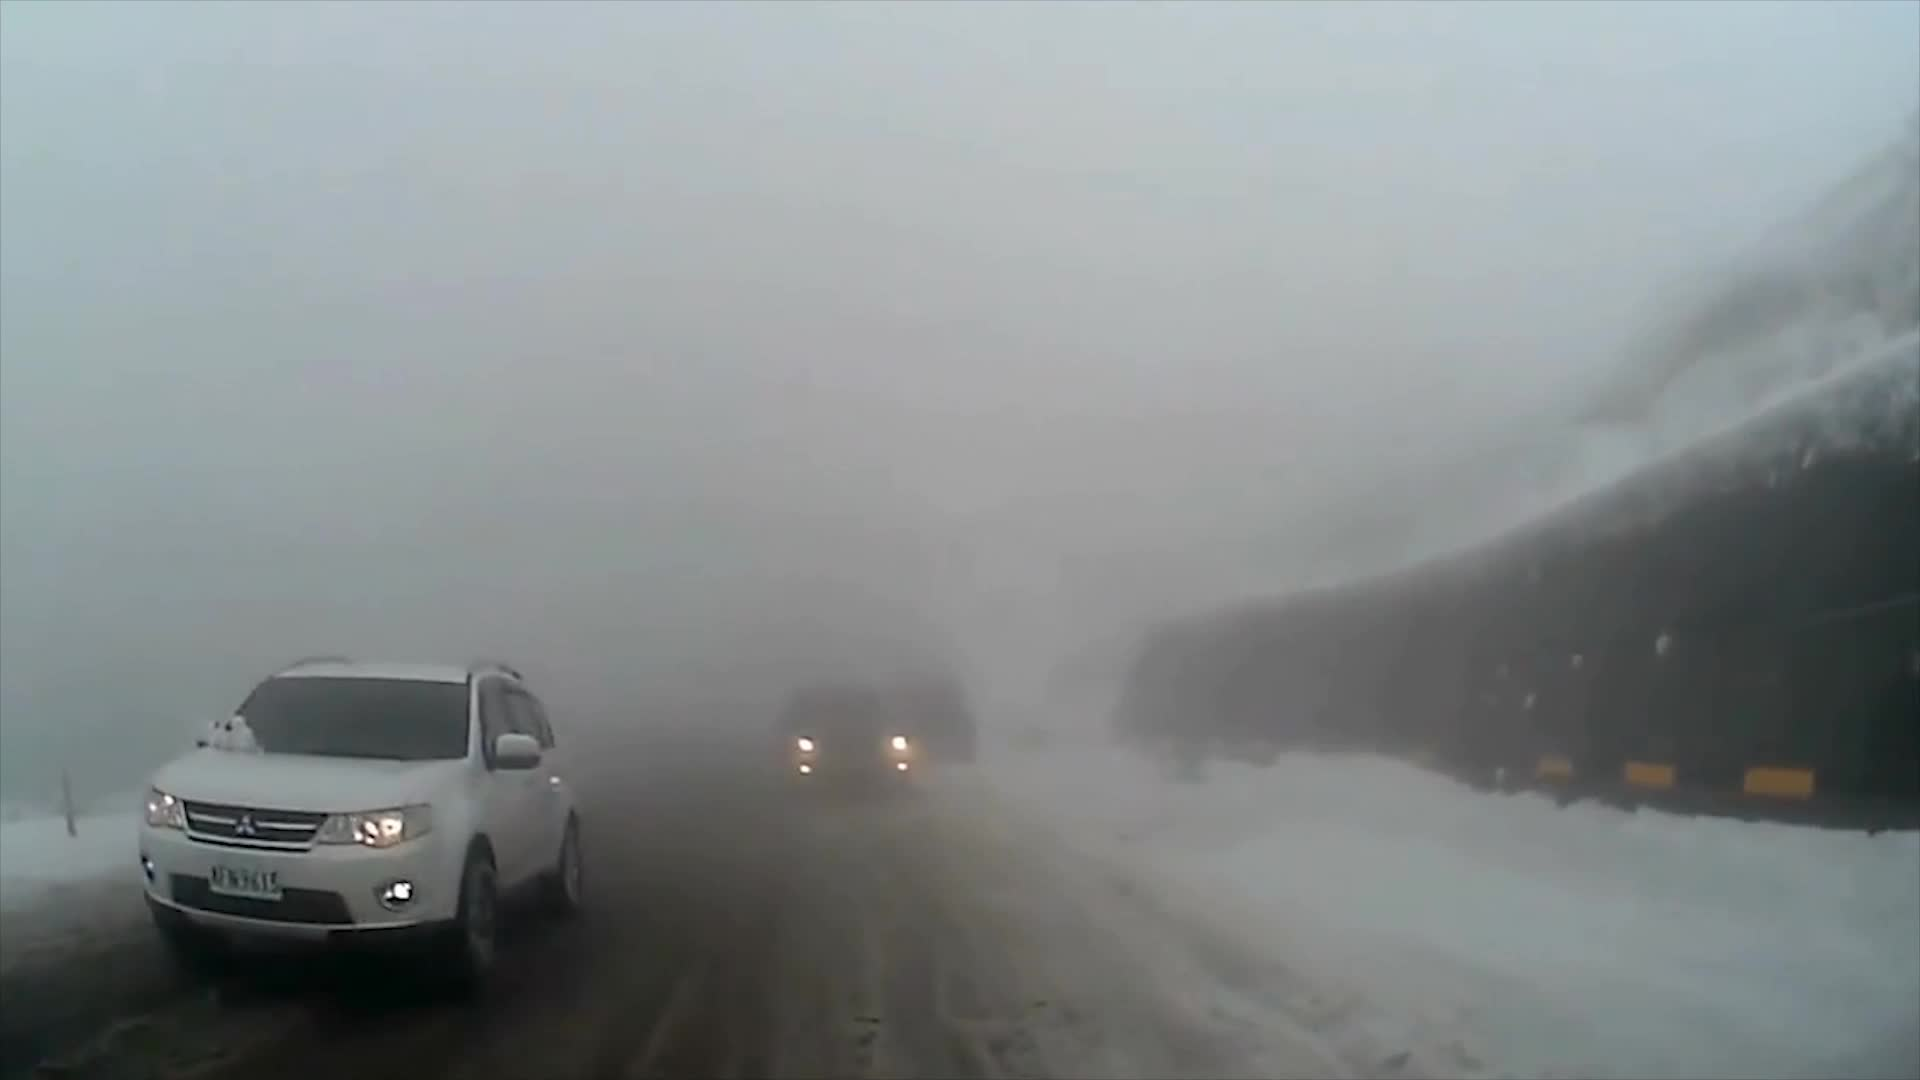vehicle: (133, 651, 584, 986), (773, 682, 915, 800)
